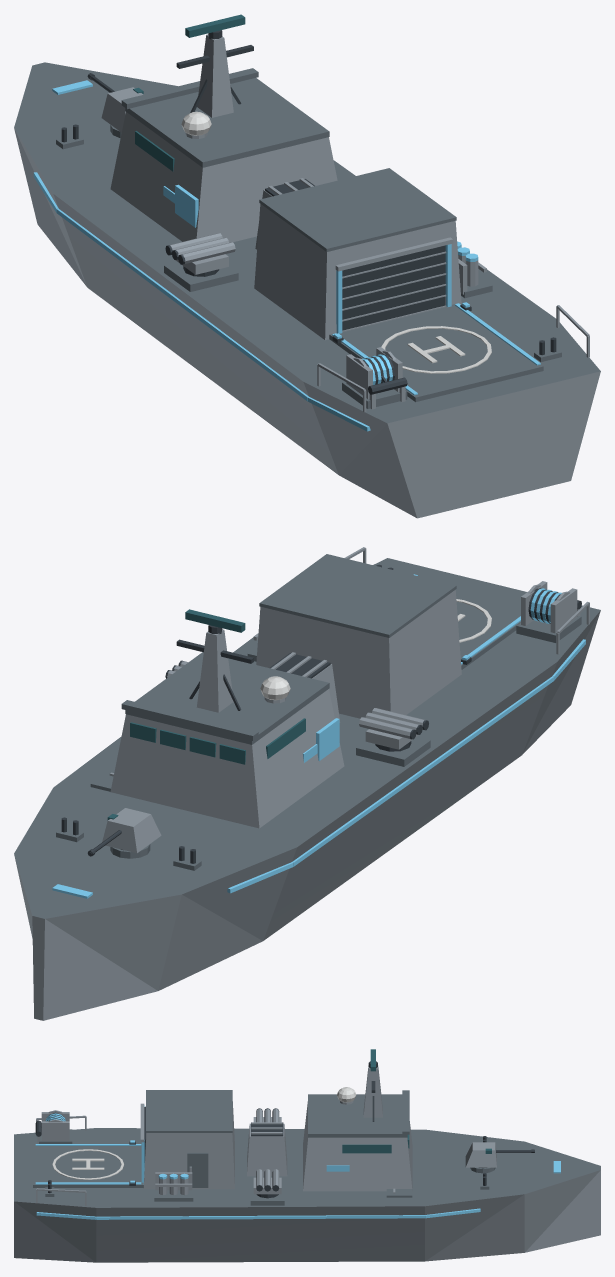
The model's file is ESC_ASW_T2.fbx.
3 renders of one model, top to bottom at view 1: azimuth 30°, elevation 25°; view 2: azimuth 150°, elevation 25°; view 3: azimuth 270°, elevation 25°, orthographic. The views are drawn at different scales.
Parts seen in each view (by area): view 1: ContinuousHull.006, Deckhouse.006, HelicopterHangar, HelicopterDeck, HangarRoof, Roof.006, AftFacingHangarDoor, NavMast.002, RoleHullStripe-1_1, BridgeBrow, TorpedoFoot_P, HangarDoorHeader (+5 smaller); view 2: ContinuousHull.006, Deckhouse.006, HelicopterHangar, HangarRoof, Roof.006, HelicopterDeck, NavMast.002, PrimaryGunCupola.006, RoleHullStripe-1_1, BridgeBrow, TorpedoFoot_P, TowSonarWinchFoot (+4 smaller); view 3: ContinuousHull.006, Deckhouse.006, HelicopterDeck, HelicopterHangar, HangarRoof, Roof.006, FunnelEnclosure.006, RoleHullStripe1_1, NavMast.002, PrimaryGunCupola.006, HangarPersonnelHatch, TowSonarWinchCheek (+6 smaller).
Boxes of the visible parts, x1,y1,x2,y2 form: ContinuousHull.006: [14, 62, 600, 518]; Deckhouse.006: [110, 112, 337, 242]; HelicopterHangar: [254, 204, 461, 340]; HelicopterDeck: [329, 304, 543, 402]; HangarRoof: [259, 168, 456, 251]; Roof.006: [125, 78, 329, 167]; AftFacingHangarDoor: [342, 245, 445, 330]; NavMast.002: [197, 34, 233, 117]; RoleHullStripe-1_1: [56, 208, 308, 400]; BridgeBrow: [121, 68, 258, 109]; TorpedoFoot_P: [164, 262, 238, 291]; HangarDoorHeader: [335, 237, 453, 271]; ContinuousHull.006: [14, 558, 600, 1020]; Deckhouse.006: [110, 689, 344, 828]; HelicopterHangar: [256, 590, 461, 718]; HangarRoof: [259, 554, 456, 637]; Roof.006: [125, 652, 329, 744]; HelicopterDeck: [416, 574, 520, 669]; NavMast.002: [196, 629, 233, 712]; PrimaryGunCupola.006: [102, 808, 161, 853]; RoleHullStripe-1_1: [292, 676, 553, 866]; BridgeBrow: [121, 700, 258, 740]; TorpedoFoot_P: [356, 737, 430, 766]; TowSonarWinchFoot: [516, 616, 581, 642]; ContinuousHull.006: [14, 1128, 600, 1262]; Deckhouse.006: [303, 1101, 412, 1191]; HelicopterDeck: [33, 1145, 143, 1187]; HelicopterHangar: [143, 1101, 234, 1189]; HangarRoof: [146, 1090, 232, 1132]; Roof.006: [308, 1094, 407, 1137]; FunnelEnclosure.006: [247, 1123, 287, 1176]; RoleHullStripe1_1: [96, 1215, 424, 1219]; NavMast.002: [363, 1065, 382, 1117]; PrimaryGunCupola.006: [465, 1142, 496, 1167]; HangarPersonnelHatch: [187, 1152, 208, 1187]; TowSonarWinchCheek: [41, 1121, 69, 1140].
Size of the model in its own units: 290 by 310 by 900.
